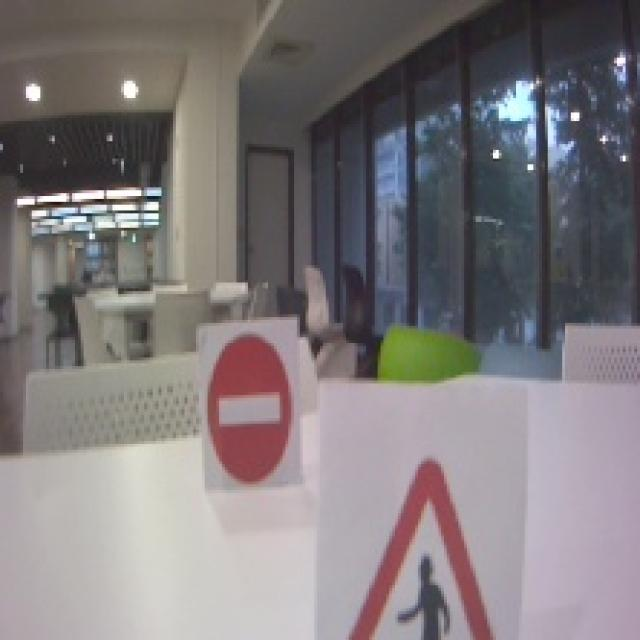DoNotEnterSign: (206, 332, 292, 486)
